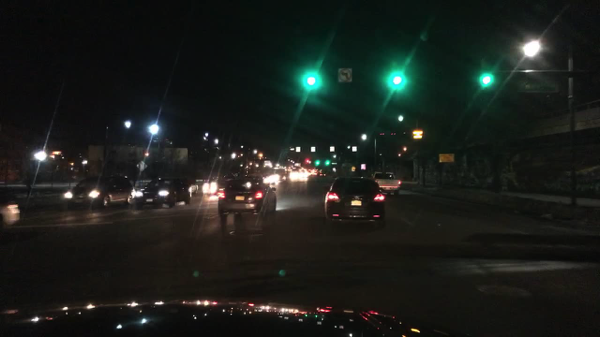car: (322, 173, 388, 232), (63, 173, 134, 212), (216, 178, 278, 219), (132, 176, 180, 208), (1, 190, 21, 232), (172, 176, 192, 205), (305, 174, 330, 195), (202, 180, 218, 194), (265, 173, 283, 184), (188, 181, 200, 195), (287, 171, 300, 181), (316, 169, 327, 179), (301, 169, 312, 178)
traffic light: (304, 73, 320, 87), (409, 128, 426, 141), (391, 73, 404, 87), (322, 155, 334, 169), (398, 145, 412, 157), (480, 74, 491, 88), (256, 149, 266, 162), (371, 130, 387, 138), (236, 151, 247, 161), (301, 157, 312, 166), (389, 129, 400, 138), (312, 158, 321, 167)
traffic sign: (517, 79, 560, 93), (337, 67, 352, 83), (437, 152, 456, 164), (135, 161, 149, 171), (348, 164, 359, 172)
truck: (371, 169, 404, 196)
